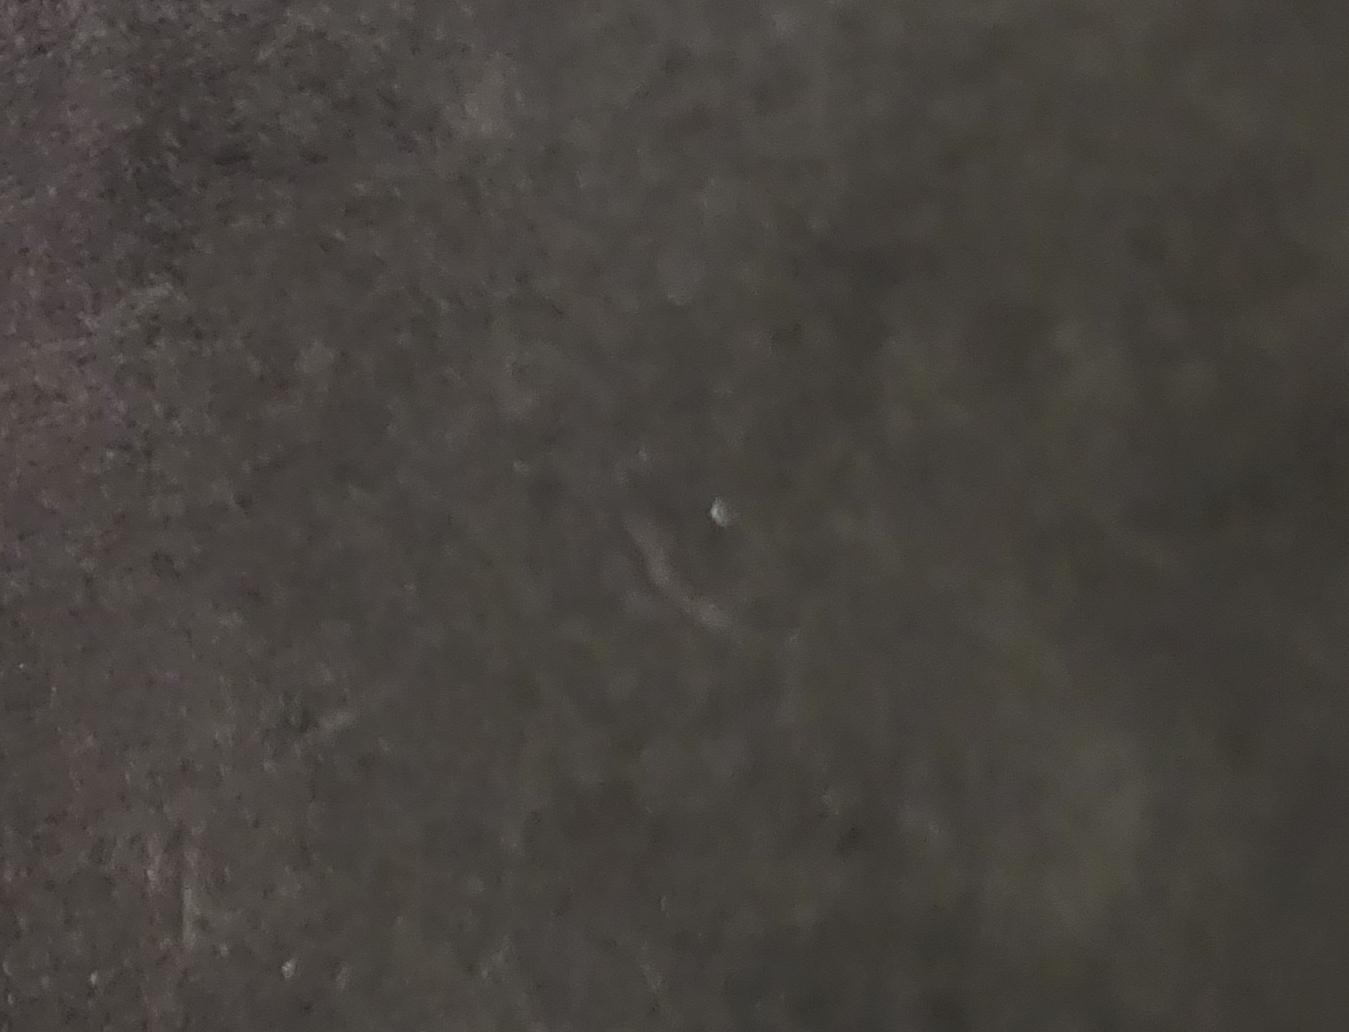Chip: (1, 216, 366, 1032)
